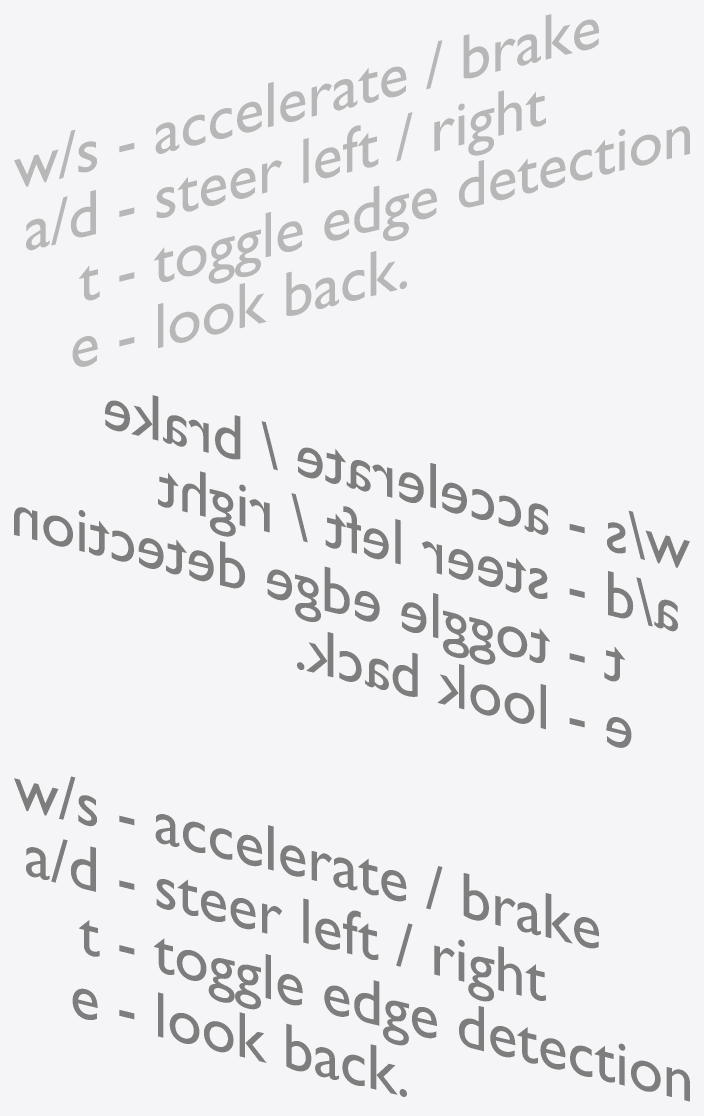
The model's file is Controls.obj.
3 renders of one model, top to bottom at view 1: azimuth 30°, elevation 25°; view 2: azimuth 150°, elevation 25°; view 3: azimuth 330°, elevation 25°, orthographic.
Visible parts, largest first — view 1: Text.006, Text.005; view 2: Text.006, Text.005; view 3: Text.006, Text.005.
Part boxes in pixels (x1,y1,x2,y2): Text.006: (154,14,689,348); Text.005: (14,130,134,366); Text.006: (14,395,549,729); Text.005: (569,511,689,747); Text.006: (154,814,689,1101); Text.005: (14,776,134,1019).
Bounding box in the file's own units: 10.93 × 3.7 × 0.
Materials: 1 (1 with a texture image).
